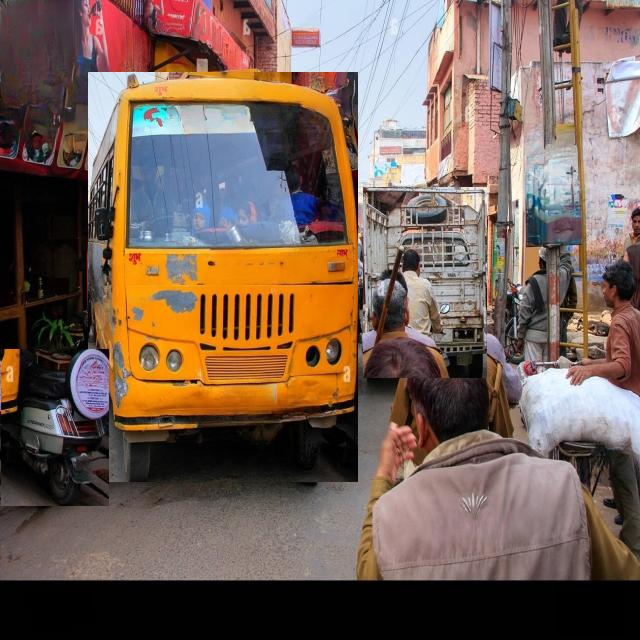bus: (88, 73, 358, 482)
motorcycle: (0, 350, 109, 506)
truck: (363, 187, 486, 378)
